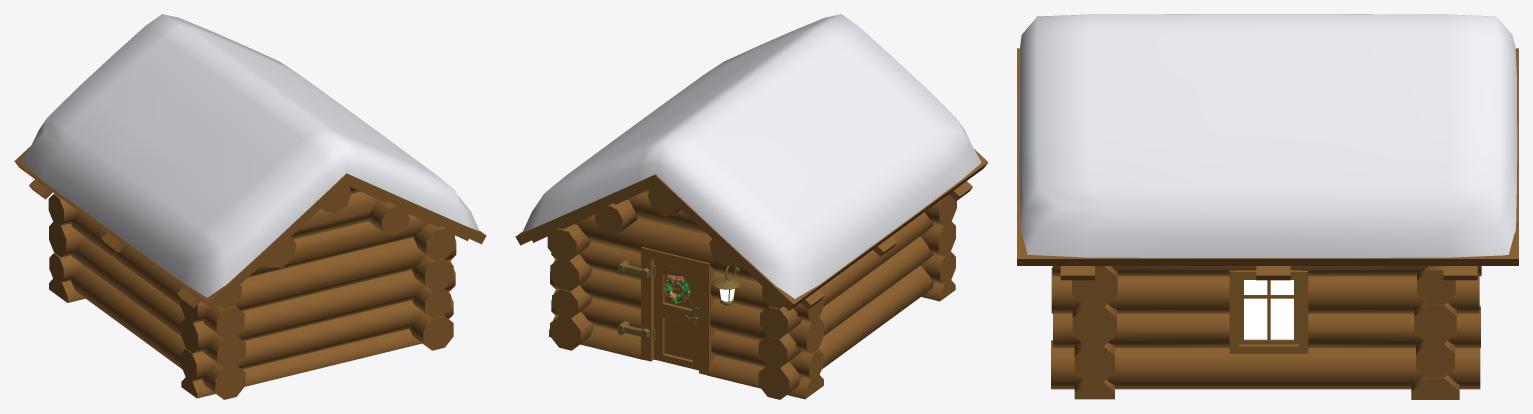
The model's file is SnowCabin.glb.
The picture shows the model from 3 angles, left to right: view 1: azimuth 30°, elevation 25°; view 2: azimuth 150°, elevation 25°; view 3: azimuth 270°, elevation 25°; orthographic projection. The views are drawn at different scales.
Parts seen in each view (by area): view 1: snow_roof, House; view 2: snow_roof, House, Door, Lamp, garland; view 3: snow_roof, House.
Part boxes in pixels (bbox=[...]): snow_roof: bbox=[21, 14, 479, 297]; House: bbox=[14, 146, 486, 399]; snow_roof: bbox=[522, 14, 981, 298]; House: bbox=[515, 149, 988, 399]; Door: bbox=[653, 260, 698, 370]; Lamp: bbox=[714, 266, 739, 305]; garland: bbox=[664, 274, 689, 303]; snow_roof: bbox=[1019, 14, 1517, 257]; House: bbox=[1017, 48, 1518, 399].
Size of the model in its own units: 6.02 by 4.84 by 7.21.
